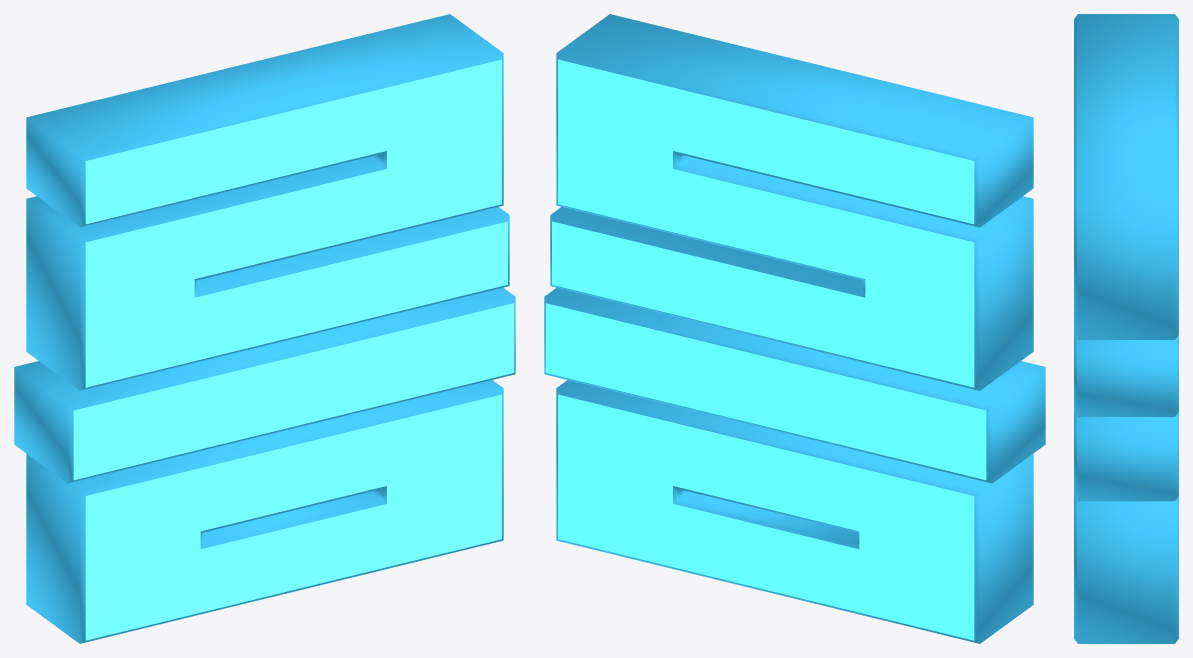
3 views of the same model, side by side, from view 1: azimuth 30°, elevation 25°; view 2: azimuth 150°, elevation 25°; view 3: azimuth 270°, elevation 25° (orthographic). The views are drawn at different scales.
Visible parts, largest first — view 1: glyph; view 2: glyph; view 3: glyph.
Boxes of the visible parts, x1,y1,x2,y2 form: glyph: (14,14,515,643); glyph: (544,14,1045,643); glyph: (1074,14,1178,643).
Size of the model in its own units: 0.0726 by 0.0755 by 0.0162.
